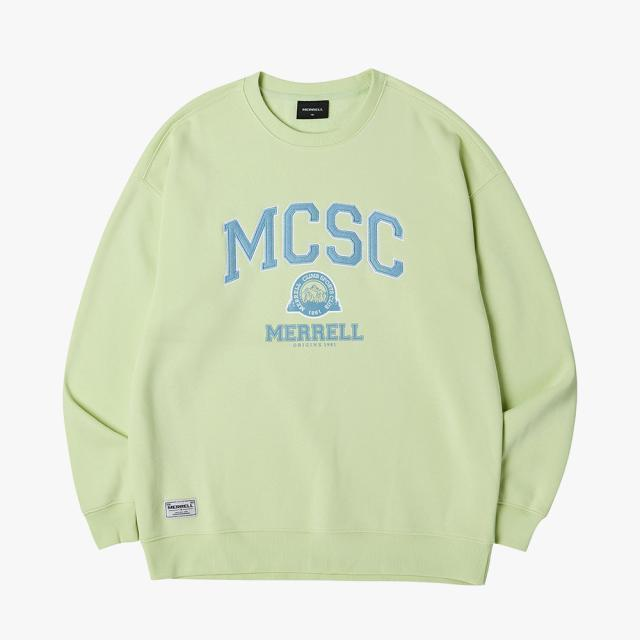sweater: (59, 66, 583, 591)
